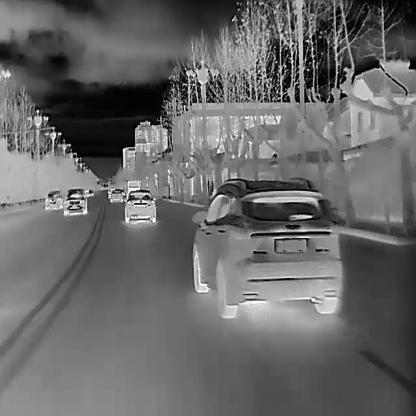car: (190, 176, 342, 317), (124, 189, 156, 223), (62, 188, 87, 215), (44, 190, 63, 211), (125, 180, 140, 193), (110, 188, 122, 202)
